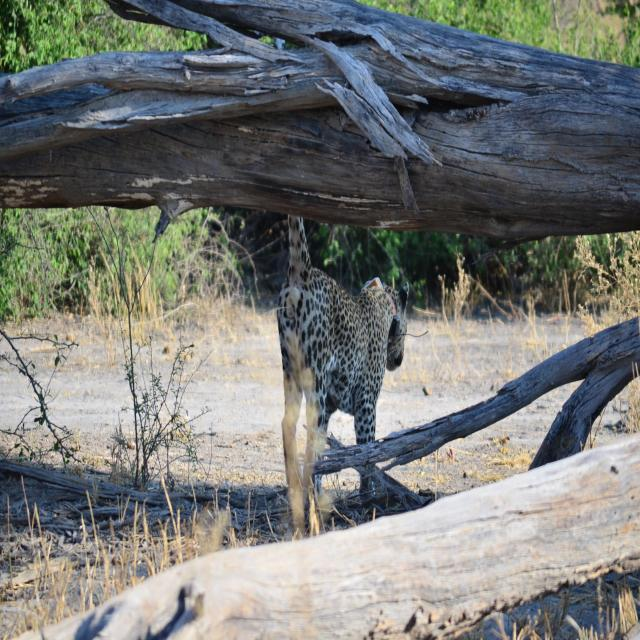Leopard: (272, 242, 407, 493)
